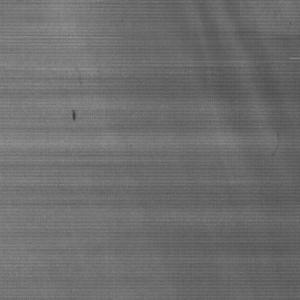Stain: (68, 107, 82, 127)
Wrinkle: (159, 1, 300, 300)
